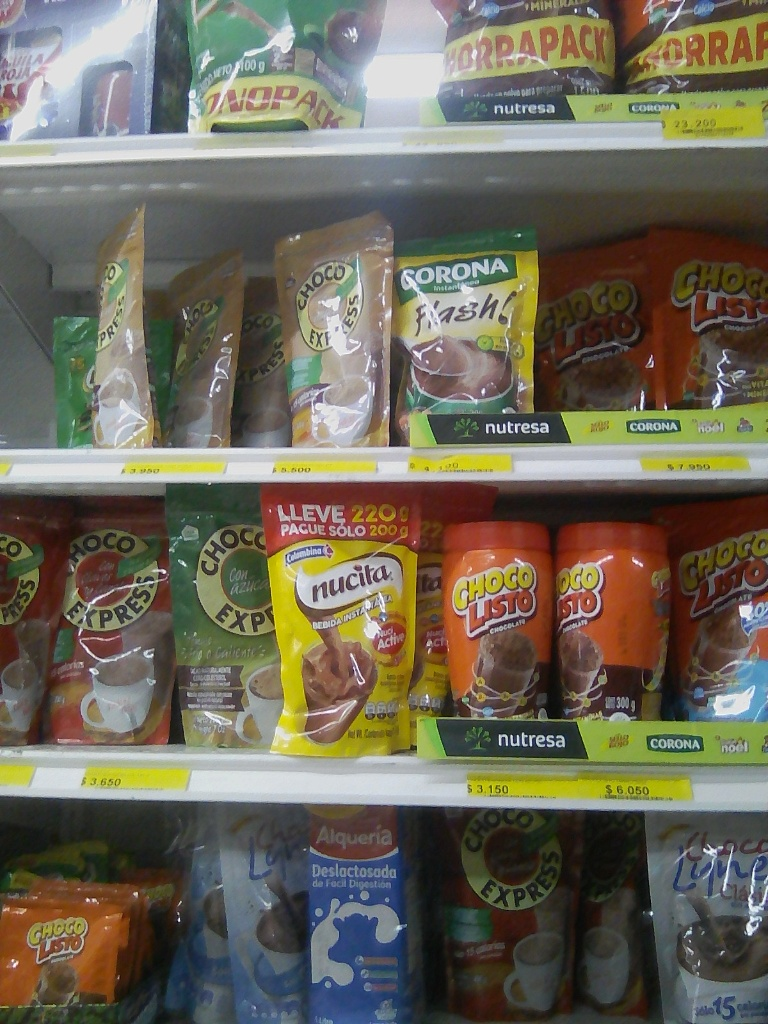COL0170103SOB02000: (3, 891, 122, 1009)
COL0170104DYP20000: (650, 496, 766, 724)
